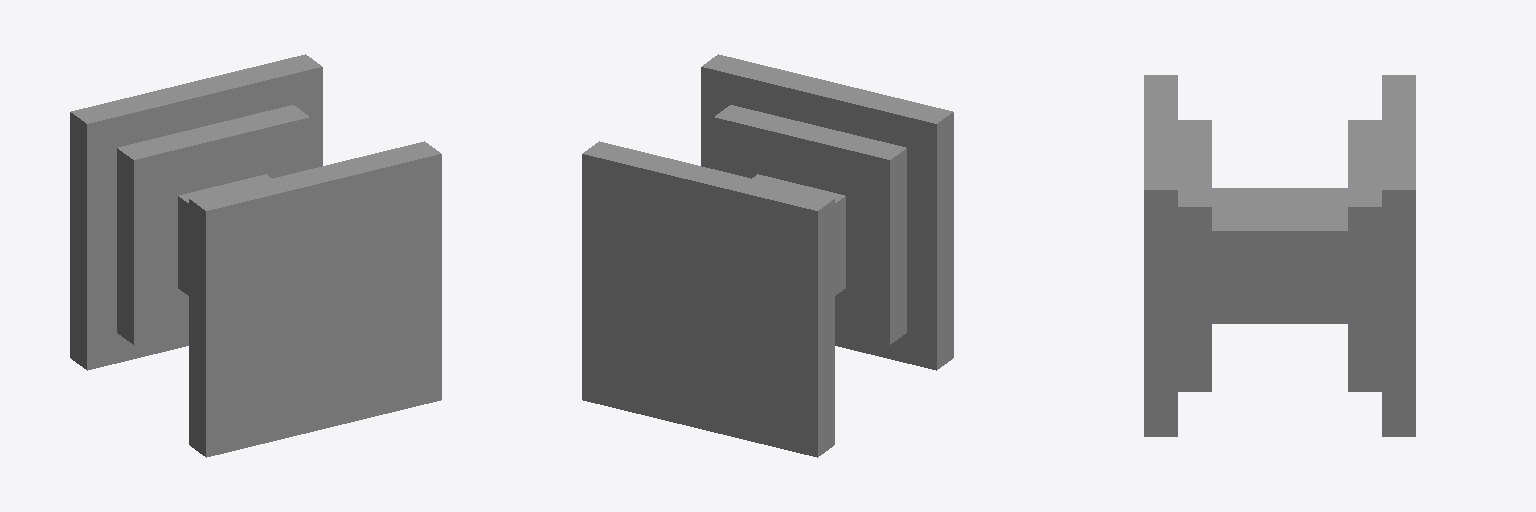
File: stackmover.obj
3 views of the same model, side by side, from view 1: azimuth 30°, elevation 25°; view 2: azimuth 150°, elevation 25°; view 3: azimuth 270°, elevation 25° (orthographic).
Parts seen in each view (by area): view 1: Cube; view 2: Cube; view 3: Cube.
Boxes of the visible parts, x1,y1,x2,y2 form: Cube: [70, 54, 441, 457]; Cube: [582, 54, 953, 457]; Cube: [1144, 75, 1415, 436].
Size of the model in its own units: 1 by 1 by 1.